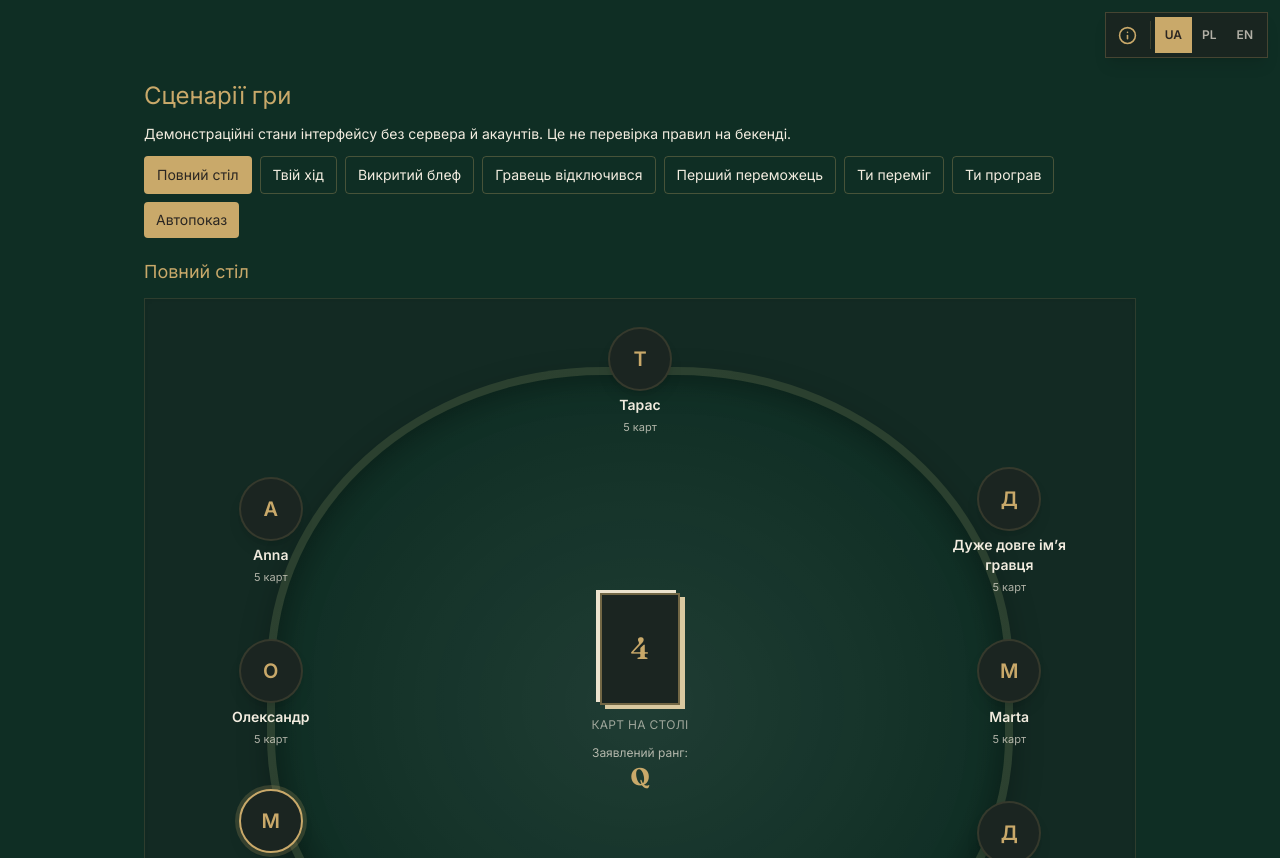
Test: Сценарії ігрового столу › shows a bluff notification without move history
This screenshot has width=1280, height=858.
Expected: the heading "Сценарії гри" is shown, [144, 81, 291, 110]
Click the button "Викритий блеф": {"x": 410, "y": 175} [345, 156, 474, 194]
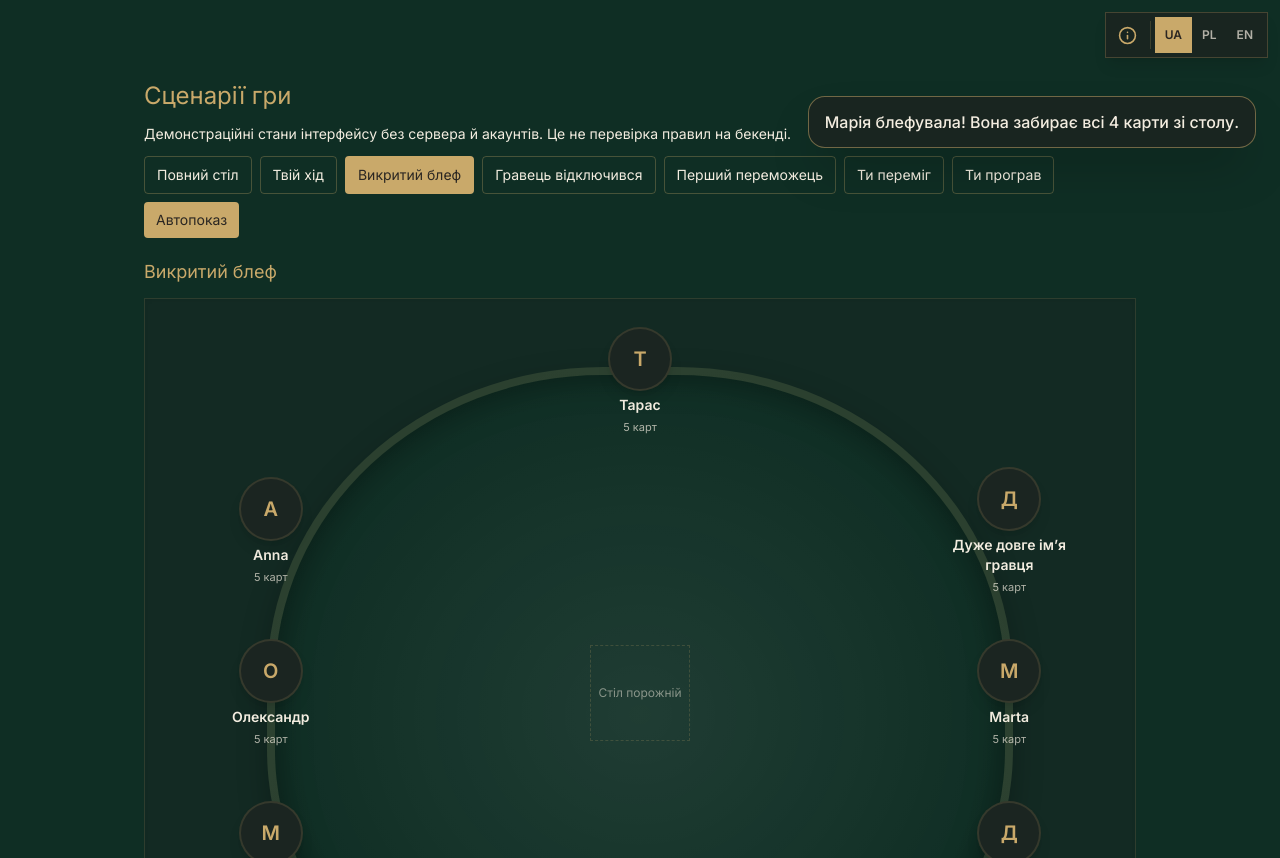
Expected: the text "Марія блефувала! Вона забирає всі 4 карти зі столу." is shown, [825, 109, 1239, 135]
